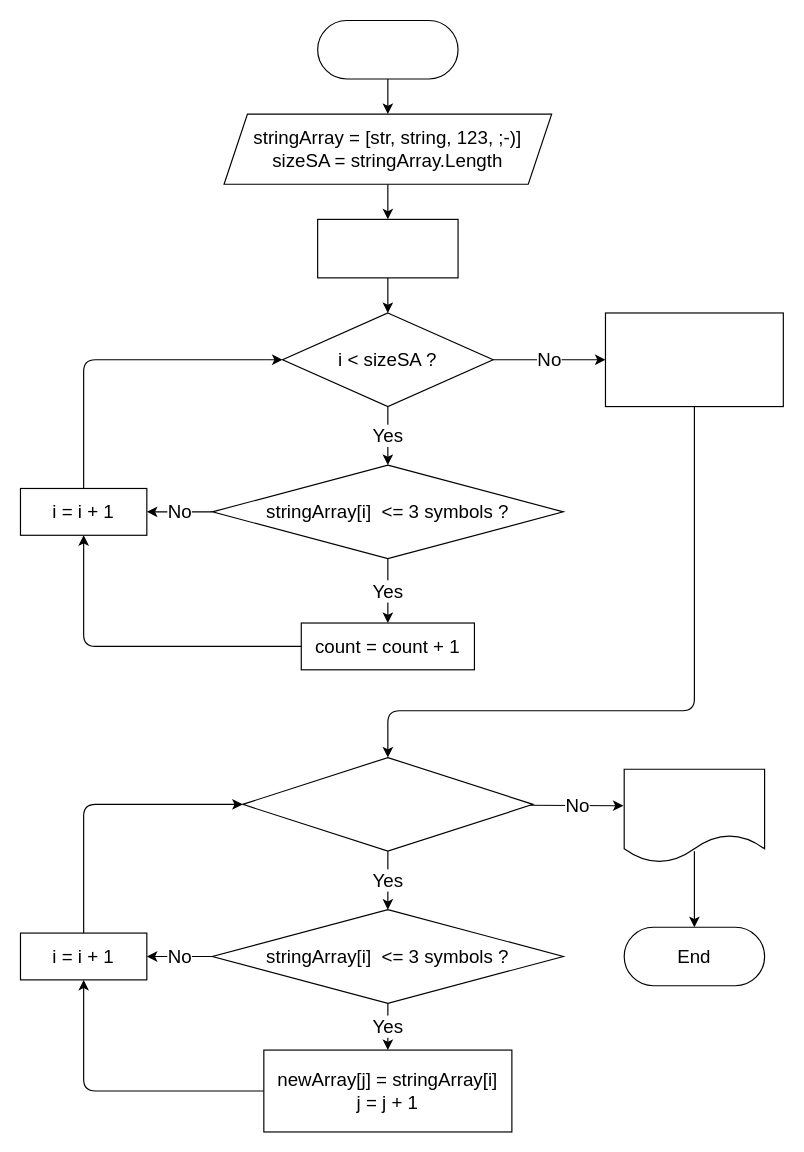
Some shapes in this 804 by 1152 pixel diagram are drawn without their labels. The shapes that lost their labels are listed below. From the top down, each one's box as (x1, y1, x2, y2) in pixels, then its label:
(316, 19, 458, 79): Start
(316, 218, 458, 278): i = 0 count = 0
(604, 312, 783, 407): i = 0 newArray = [] sizeNA = count j = 0
(242, 756, 533, 851): i < sizeSA ? j < sizeNA ?
(623, 768, 765, 863): newArray[]
